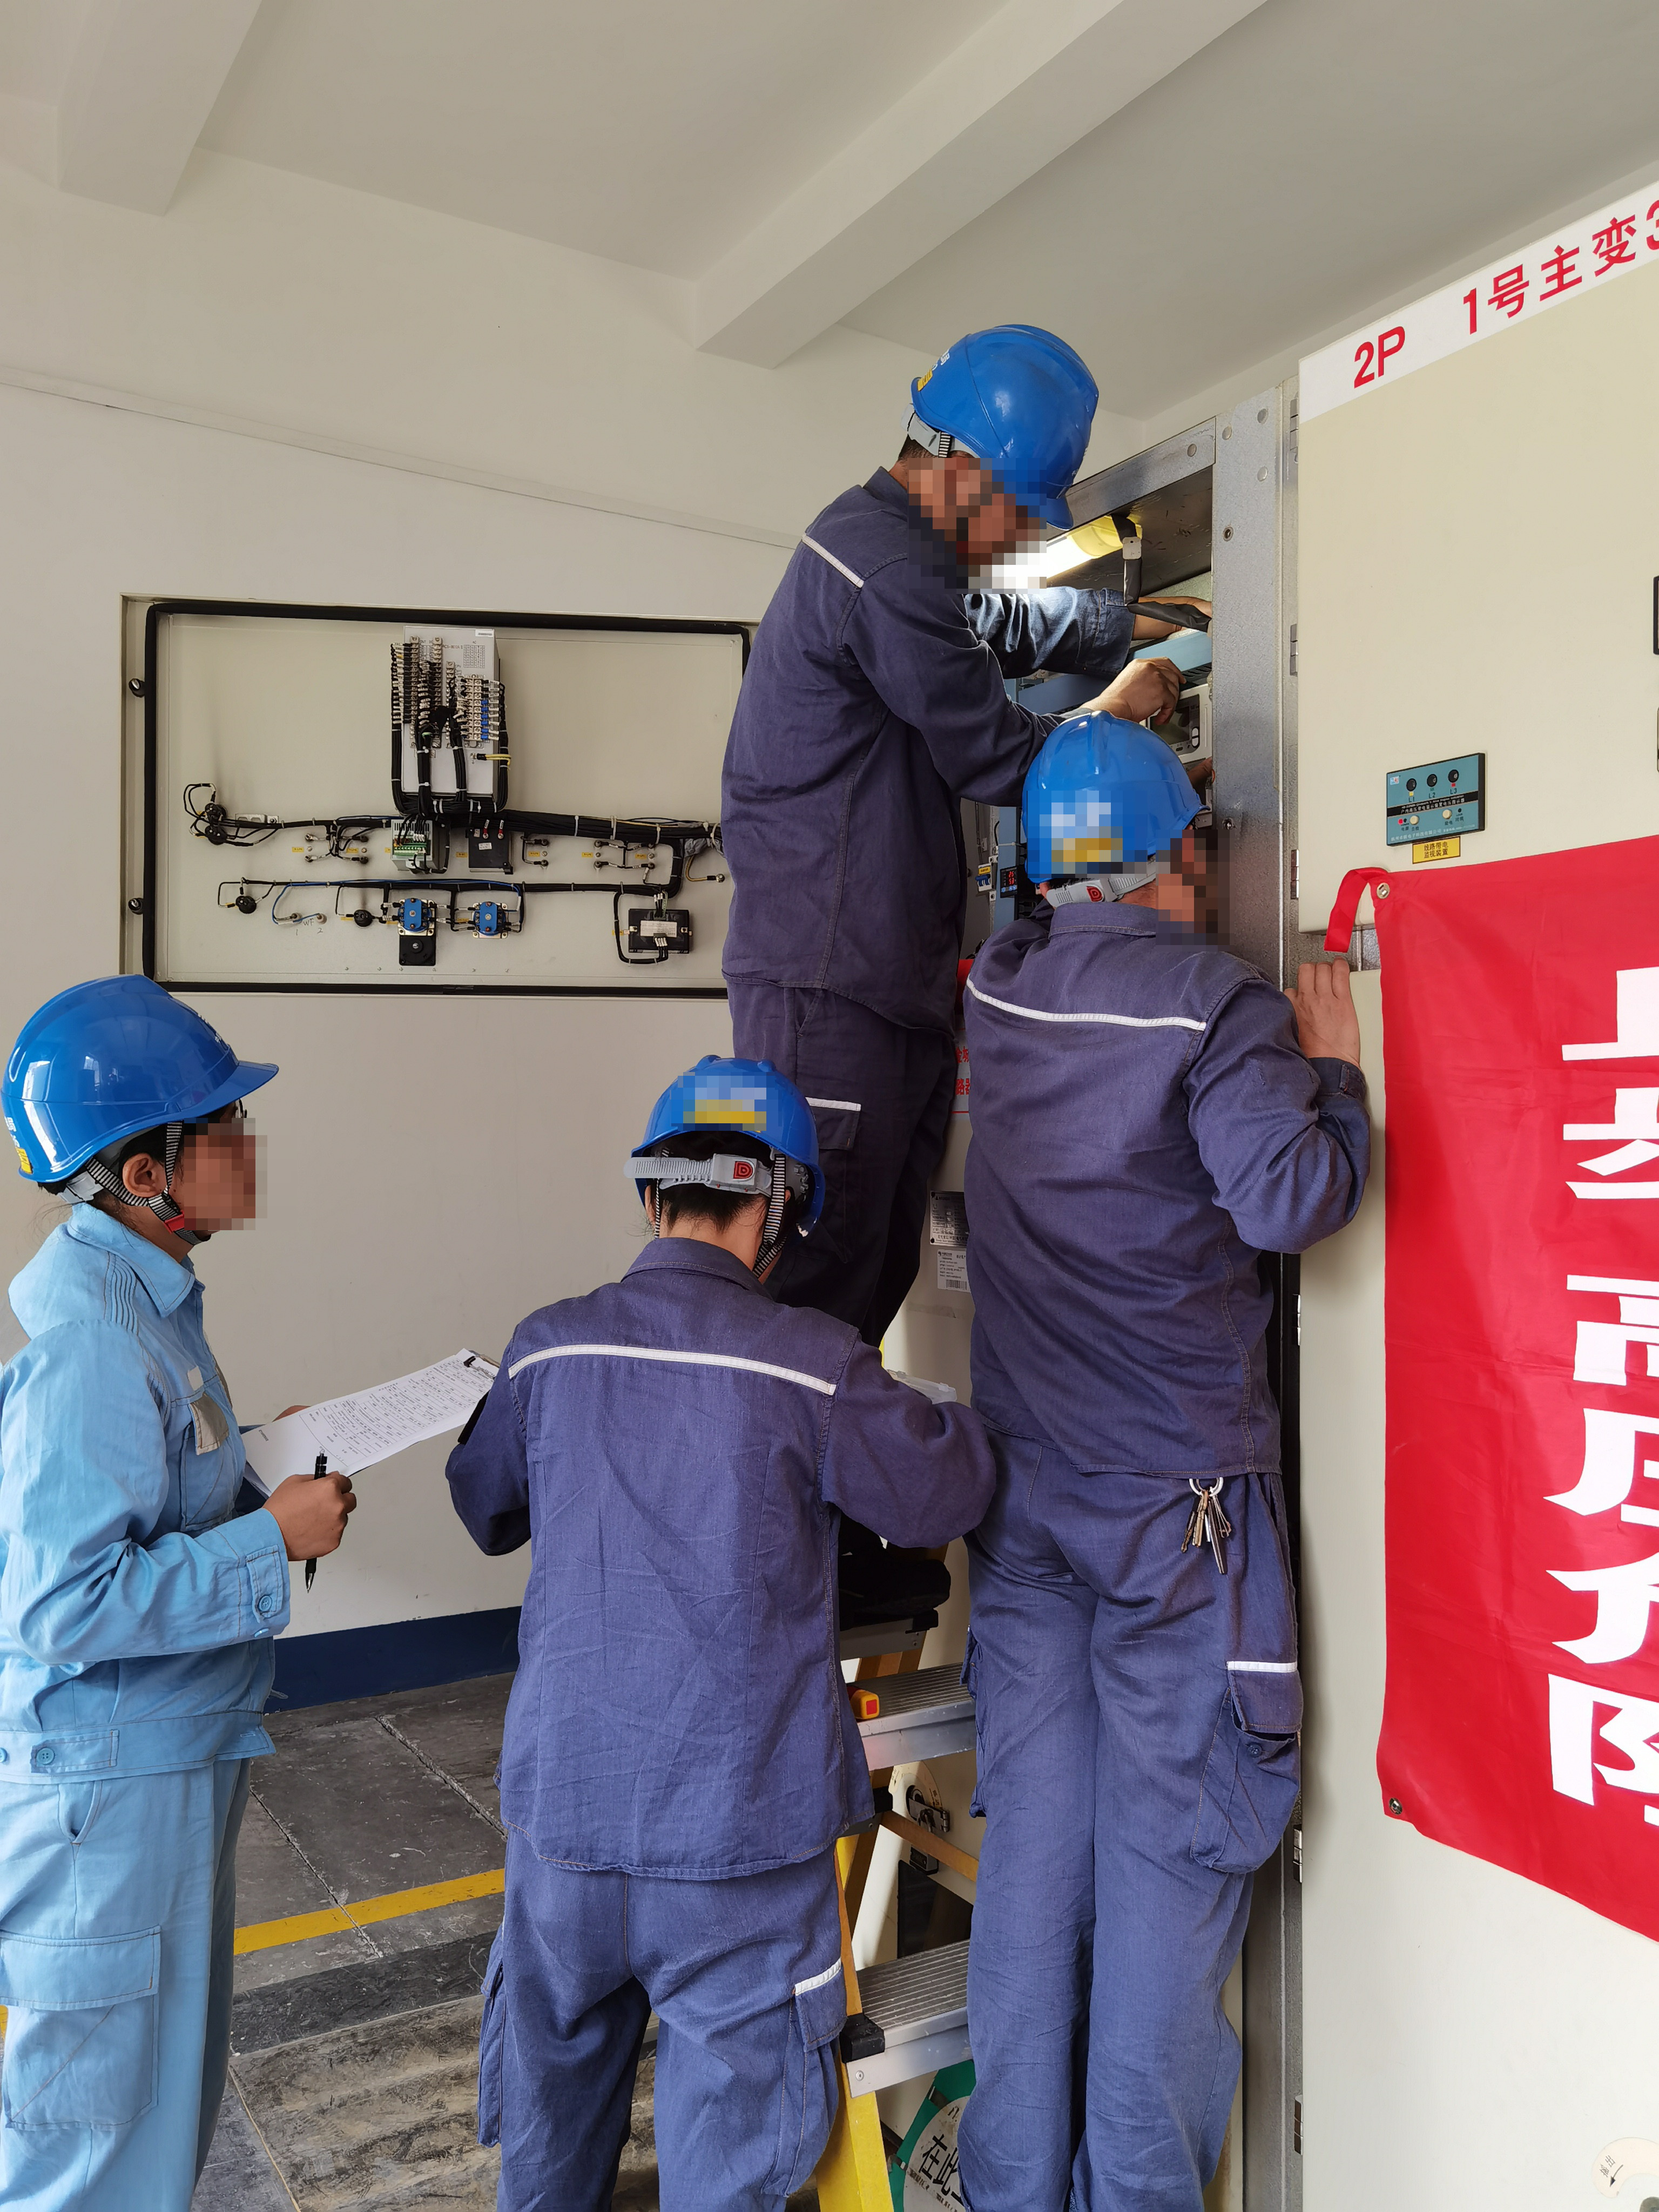downsuit: (942, 1496, 1273, 2212), (465, 1876, 853, 2212), (1, 1792, 288, 2212)
halt: (8, 978, 282, 1246), (1017, 709, 1220, 937), (903, 325, 1101, 544), (624, 1054, 826, 1255)
hand: (1277, 956, 1371, 1061), (269, 1463, 363, 1568), (1112, 654, 1186, 728)
inear: (84, 1131, 197, 1226), (921, 419, 1009, 531), (1158, 810, 1228, 920)
person: (963, 581, 1376, 2212), (435, 1046, 941, 2212), (1, 965, 350, 2211), (725, 298, 1100, 1331)
upsuit: (448, 1251, 924, 1867), (709, 479, 1138, 1037), (967, 905, 1358, 1467), (2, 1213, 305, 1770)
